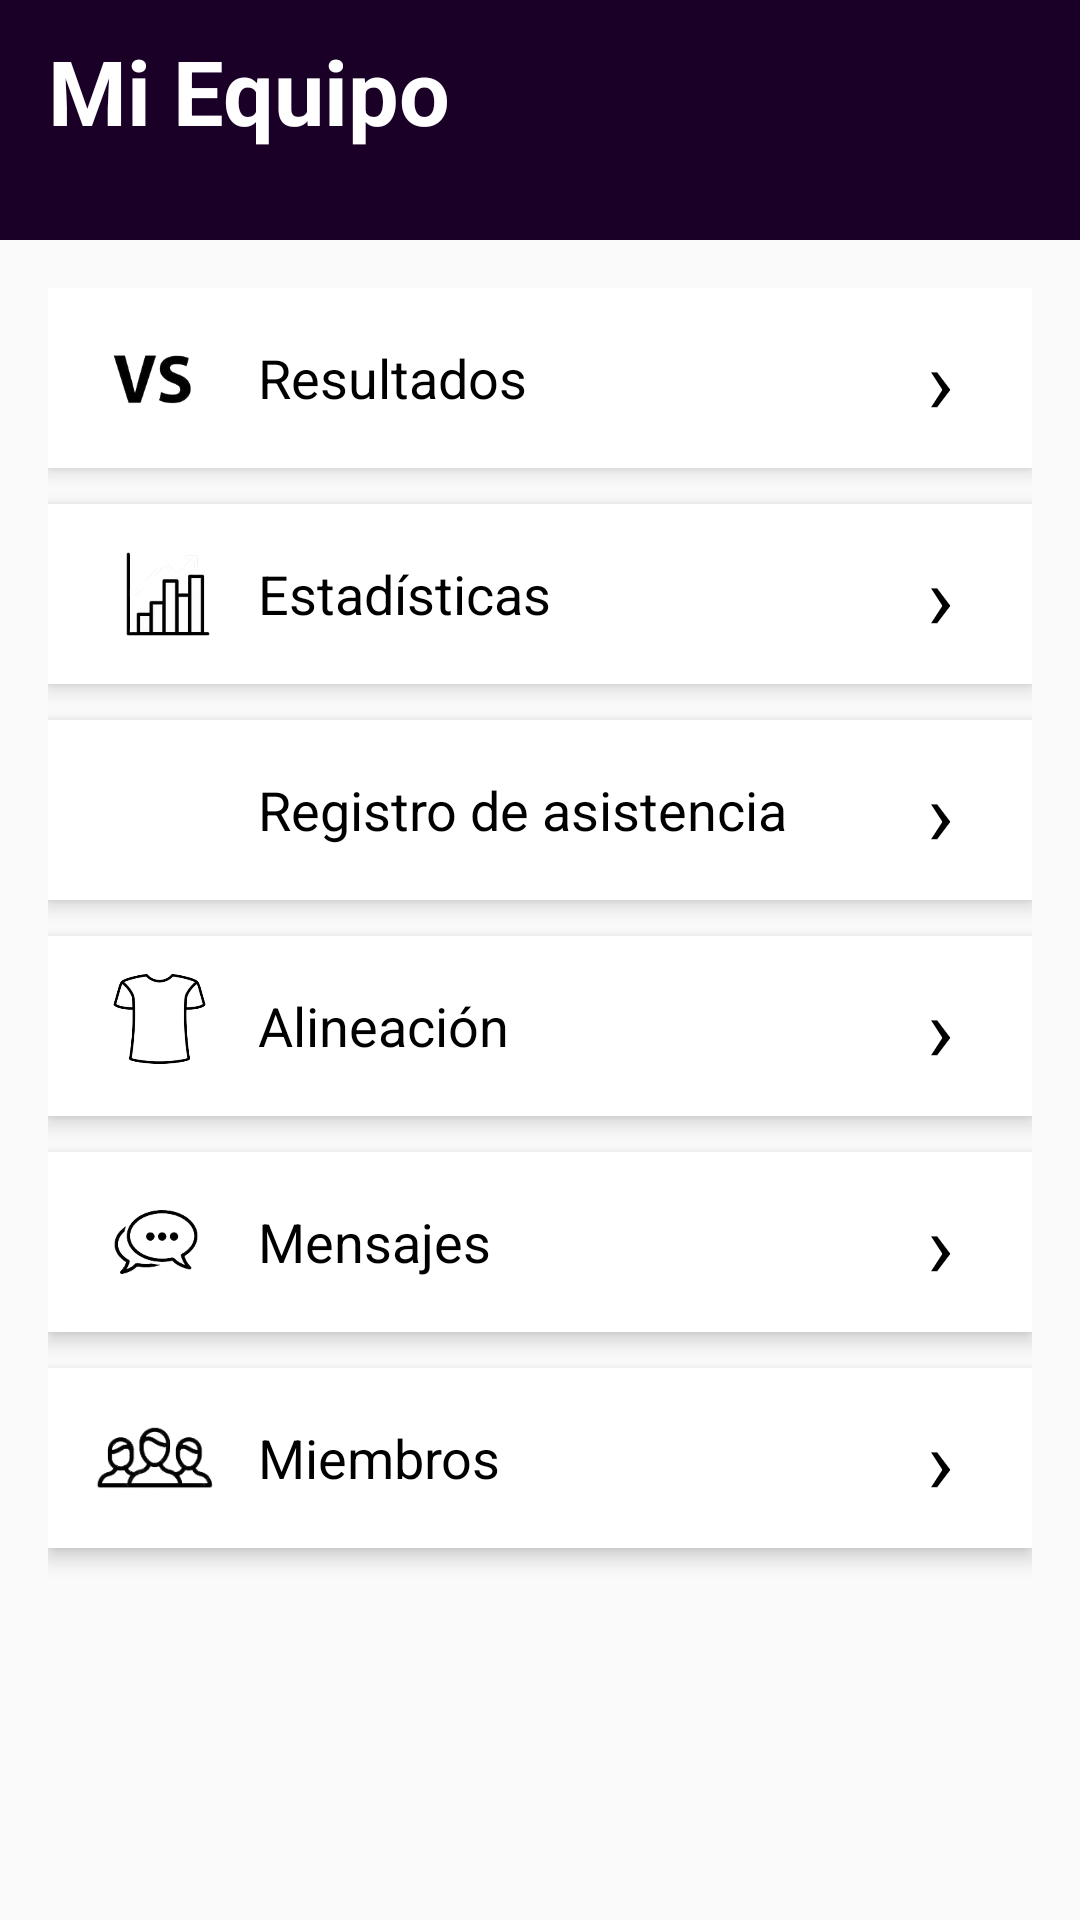

Screen size 1080*1920. Icon name, then its center in pixels as point (x, y):
camiseta: point (159, 1019)
estadisticas: point (168, 594)
